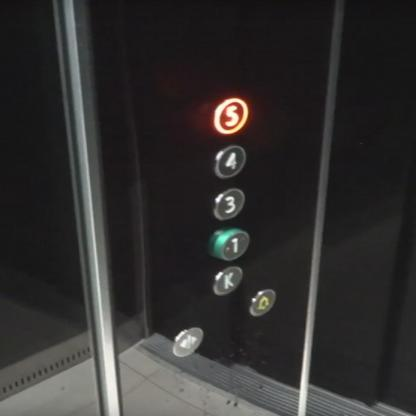1: (204, 226, 250, 262)
3: (210, 186, 247, 221)
4: (210, 144, 250, 180)
5: (210, 96, 248, 136)
K: (210, 264, 245, 297)
alarm: (247, 287, 278, 319)
open: (170, 324, 204, 359)
